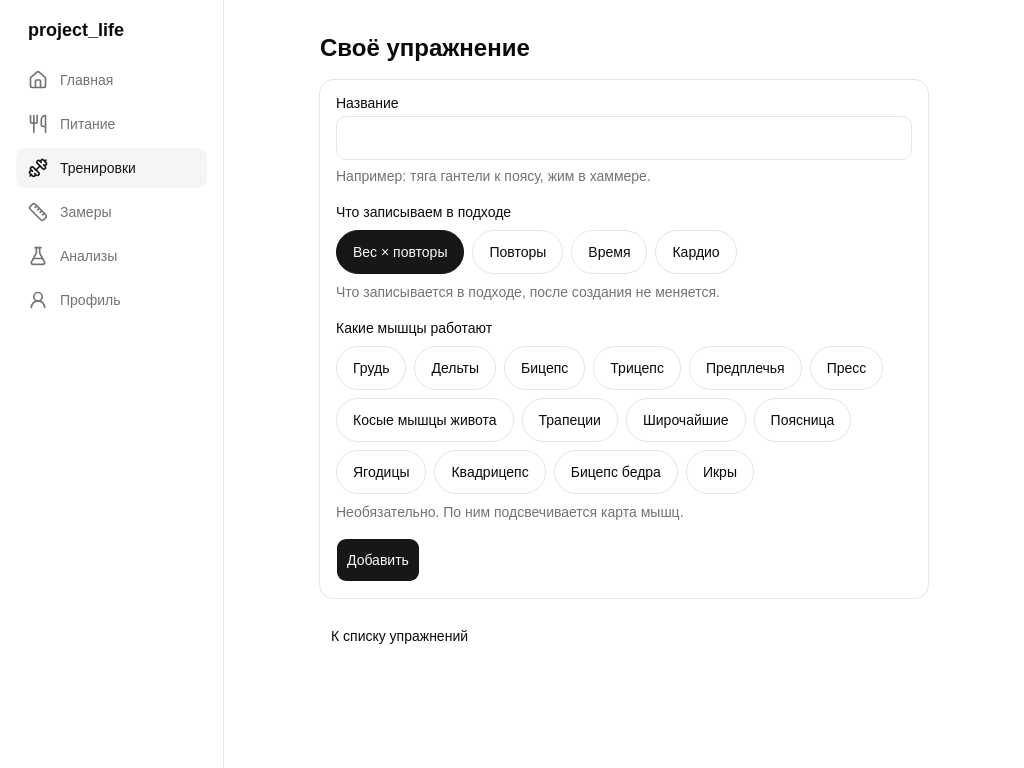
it: форма своего упражнения › создаёт упражнение с ключом от клиента и открывает его карточку
The image size is (1024, 768).
In the field labelled "Название": (624, 138) left=336, top=116, right=912, bottom=160, type "  Тяга гантели к поясу "
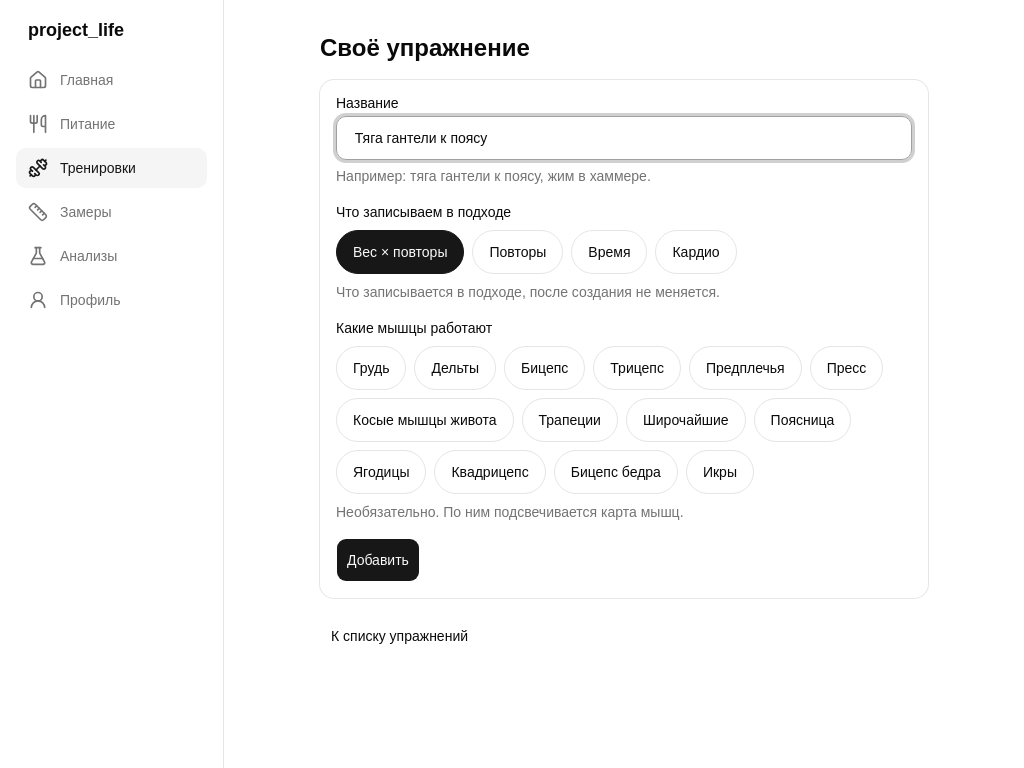
Click the checkbox labelled "Широчайшие": (686, 420) left=626, top=398, right=746, bottom=442
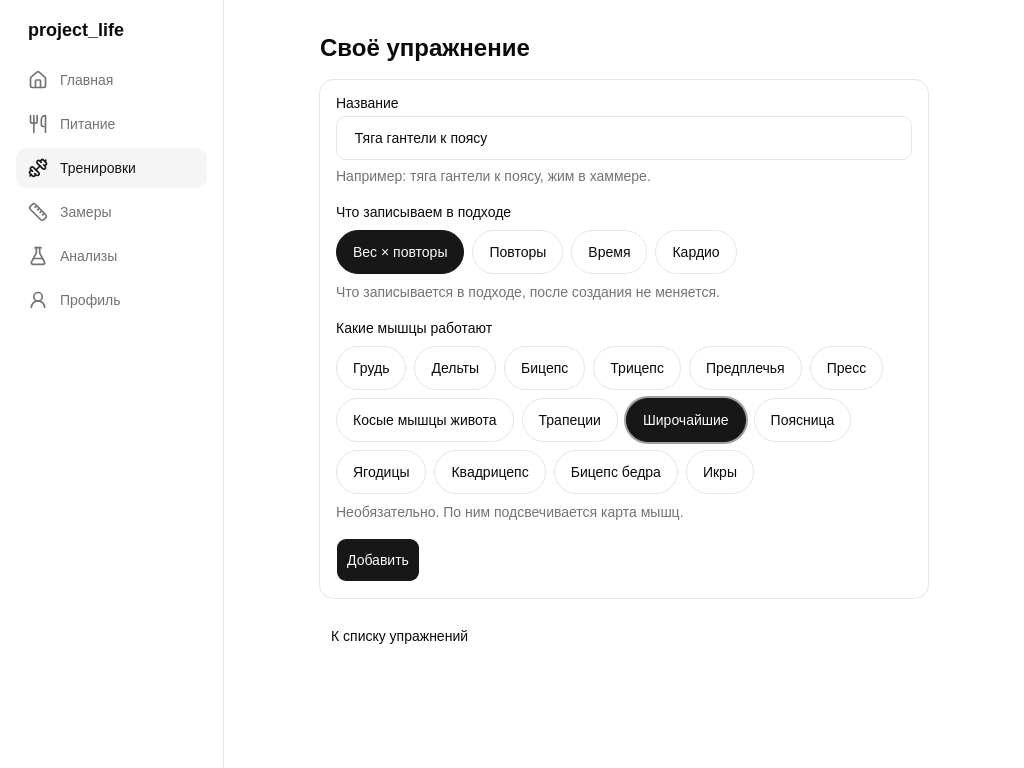
Click the checkbox labelled "Бицепс": (545, 368) left=504, top=346, right=585, bottom=390
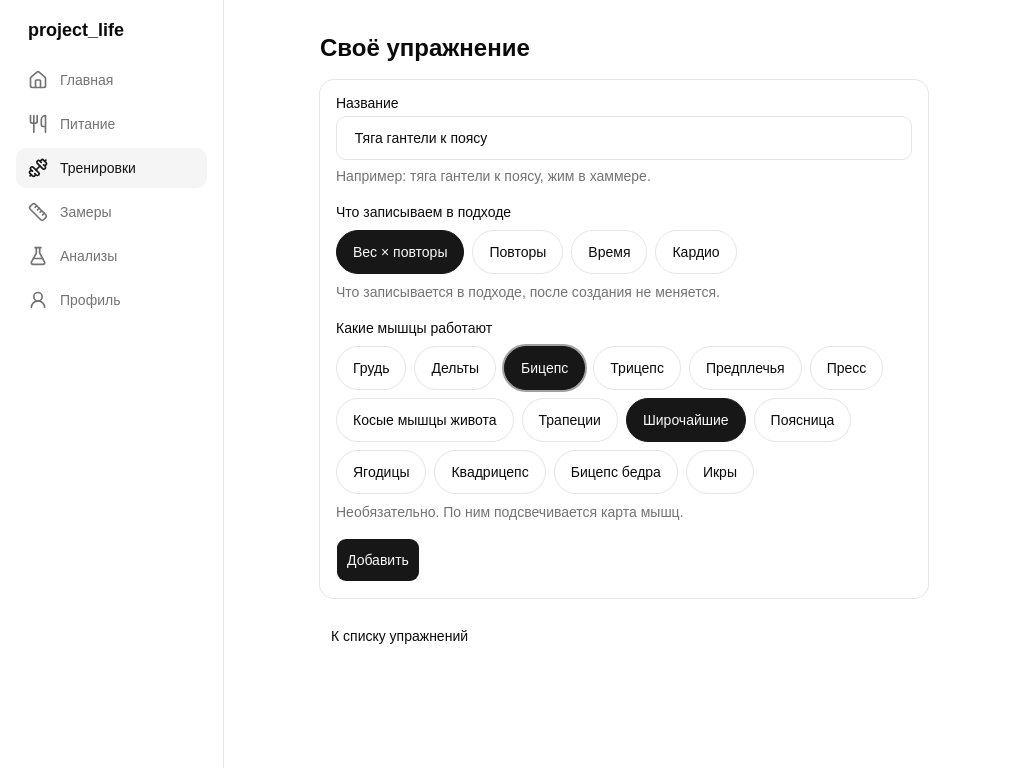
Click the button "Добавить": (378, 560) left=336, top=538, right=420, bottom=582
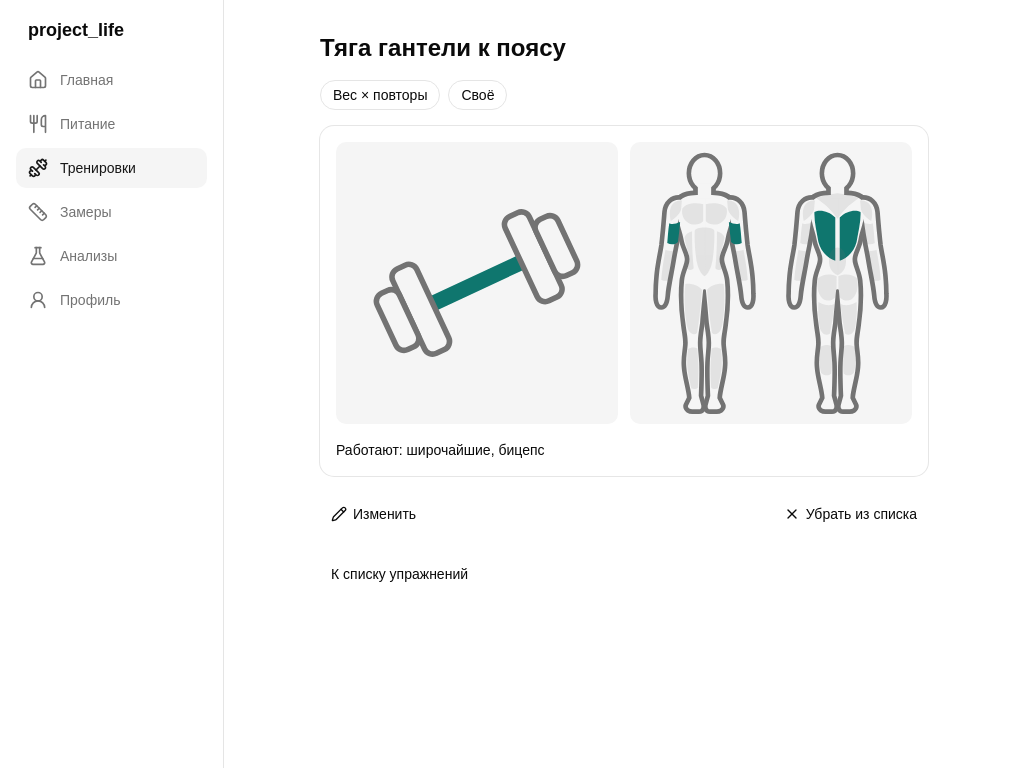
Expected: the heading "Тяга гантели к поясу" is shown, left=320, top=34, right=566, bottom=61
